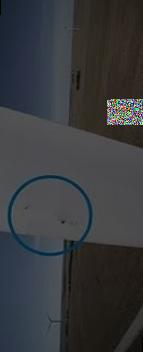faulty: (7, 162, 96, 260)
